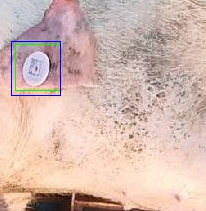text: (15, 44, 60, 90)
